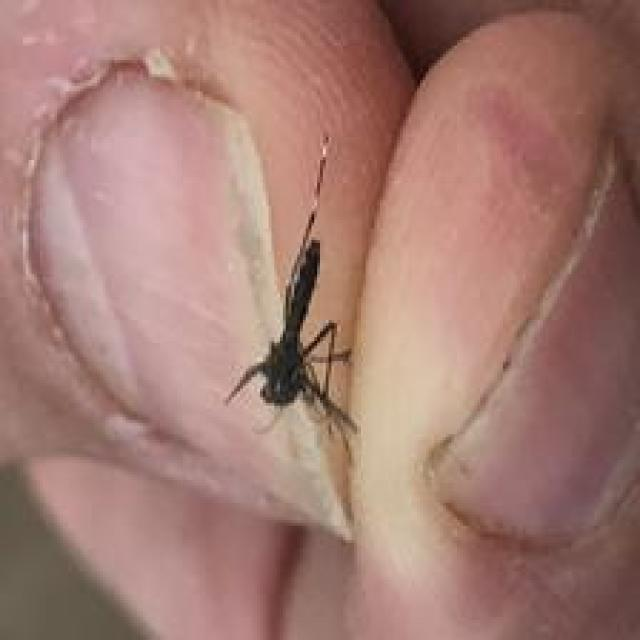Aedes albopictus: (223, 132, 360, 457)
